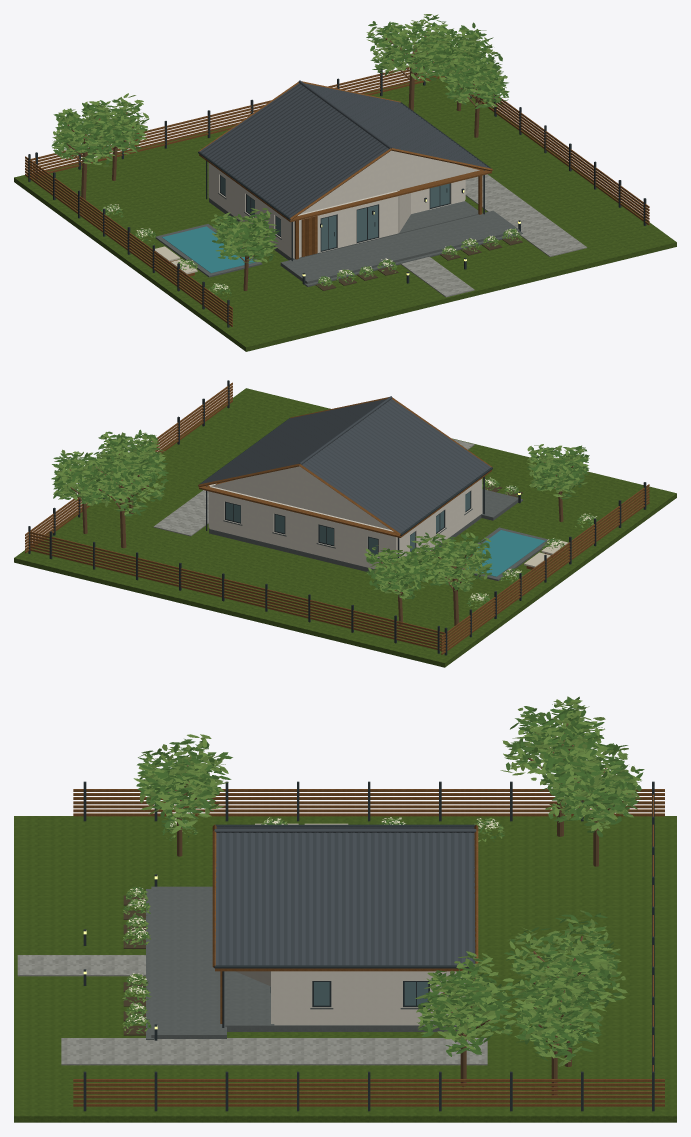
File: casa-03.glb
3 views of the same model, one above another, from view 1: azimuth 30°, elevation 25°; view 2: azimuth 150°, elevation 25°; view 3: azimuth 270°, elevation 25° (orthographic). The views are drawn at different scales.
Parts seen in each view (by area): view 1: landscape_grass.002, architecture_roof.002, landscape_wood.002, landscape_leaf.002, landscape_leaf-light.002, architecture_stucco.002, landscape_stone.002, landscape_paving.002, architecture_wood.002, architecture_glass.002, landscape_water.001, landscape_metal.002 (+5 smaller); view 2: landscape_grass.002, architecture_roof.002, landscape_wood.002, architecture_stucco.002, landscape_leaf-light.002, landscape_leaf.002, architecture_wood.002, landscape_metal.002, landscape_water.001, landscape_paving.002, landscape_stone.002, landscape_trunk.002 (+3 smaller); view 3: landscape_grass.002, architecture_roof.002, landscape_wood.002, landscape_leaf.002, landscape_leaf-light.002, landscape_paving.002, landscape_stone.002, architecture_stucco.002, architecture_stone.002, landscape_metal.002, architecture_wood.002, architecture_metal.002 (+4 smaller).
Boxes of the visible parts, bbox=[...] form: landscape_grass.002: bbox=[14, 76, 676, 351]; architecture_roof.002: bbox=[200, 80, 489, 217]; landscape_wood.002: bbox=[25, 62, 649, 326]; landscape_leaf.002: bbox=[51, 15, 519, 298]; landscape_leaf-light.002: bbox=[52, 14, 521, 296]; architecture_stucco.002: bbox=[208, 150, 479, 258]; landscape_stone.002: bbox=[155, 210, 522, 286]; landscape_paving.002: bbox=[401, 174, 587, 297]; architecture_wood.002: bbox=[198, 81, 492, 259]; architecture_glass.002: bbox=[220, 176, 449, 250]; landscape_water.001: bbox=[162, 226, 255, 273]; landscape_metal.002: bbox=[28, 68, 646, 327]; landscape_grass.002: bbox=[14, 388, 676, 667]; architecture_roof.002: bbox=[201, 396, 490, 533]; landscape_wood.002: bbox=[25, 382, 649, 654]; architecture_stucco.002: bbox=[208, 466, 482, 568]; landscape_leaf-light.002: bbox=[53, 432, 596, 608]; landscape_leaf.002: bbox=[51, 429, 597, 607]; architecture_wood.002: bbox=[198, 397, 492, 537]; landscape_metal.002: bbox=[28, 380, 646, 655]; landscape_water.001: bbox=[466, 530, 545, 576]; landscape_paving.002: bbox=[153, 439, 474, 536]; landscape_stone.002: bbox=[462, 489, 549, 580]; landscape_trunk.002: bbox=[67, 448, 573, 626]; landscape_grass.002: bbox=[14, 816, 676, 1122]; architecture_roof.002: bbox=[214, 825, 476, 965]; landscape_wood.002: bbox=[73, 789, 664, 1106]; landscape_leaf.002: bbox=[123, 696, 644, 1061]; landscape_leaf-light.002: bbox=[122, 699, 641, 1066]; landscape_paving.002: bbox=[17, 955, 487, 1065]; landscape_stone.002: bbox=[146, 886, 226, 1039]; architecture_stucco.002: bbox=[236, 971, 466, 1025]; architecture_stone.002: bbox=[225, 971, 457, 1031]; landscape_metal.002: bbox=[83, 781, 654, 1111]; architecture_wood.002: bbox=[212, 824, 478, 1023]; architecture_metal.002: bbox=[214, 824, 475, 1029].
Bounding box in the file's own units: 30.57 × 6.69 × 28.
17 materials, 5 textured.
